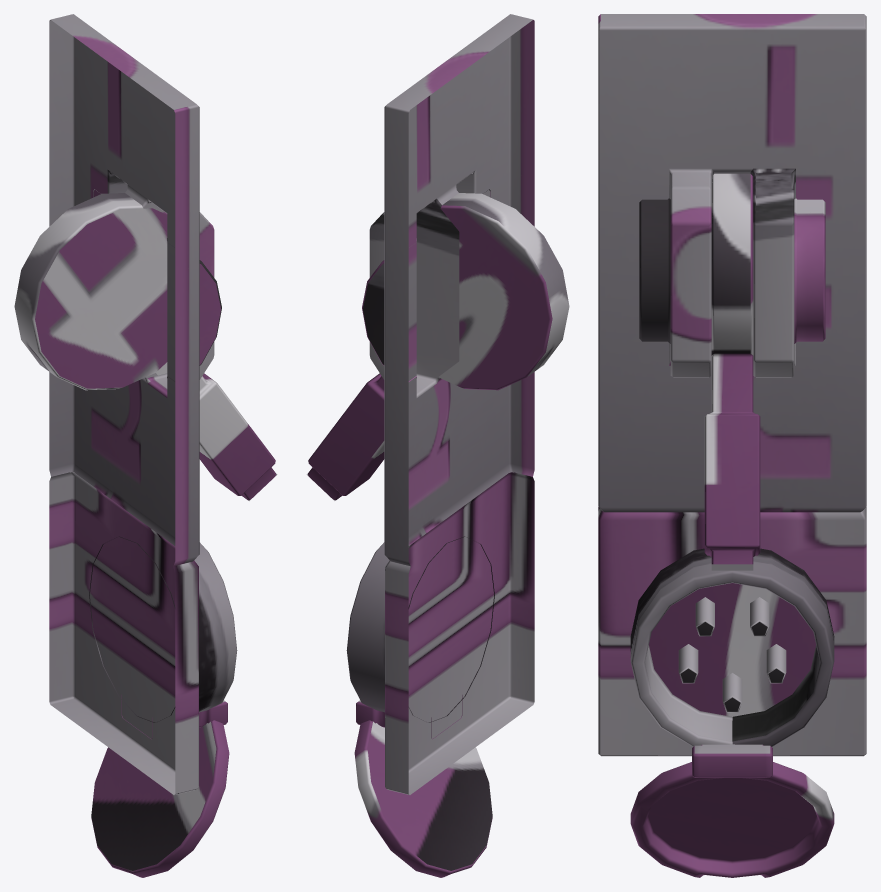
Rendered from SM_EDSWallSwitch1WithSwitch.fbx.
3 views of the same model, side by side, from view 1: azimuth 30°, elevation 25°; view 2: azimuth 150°, elevation 25°; view 3: azimuth 270°, elevation 25° (orthographic). The views are drawn at different scales.
Parts seen in each view (by area): view 1: Wall Socket with Switch 1, Wall Switch 1; view 2: Wall Socket with Switch 1, Wall Switch 1; view 3: Wall Socket with Switch 1, Wall Switch 1, Wall Socket pins.
Boxes of the visible parts, <box> form: Wall Socket with Switch 1: <box>49,14,237,877</box>; Wall Switch 1: <box>14,193,277,500</box>; Wall Socket with Switch 1: <box>346,14,534,877</box>; Wall Switch 1: <box>306,193,569,500</box>; Wall Socket with Switch 1: <box>598,14,866,877</box>; Wall Switch 1: <box>704,173,760,570</box>; Wall Socket pins: <box>678,597,786,712</box>.
Bounding box in the file's own units: 10.96 × 9.78 × 34.42.
